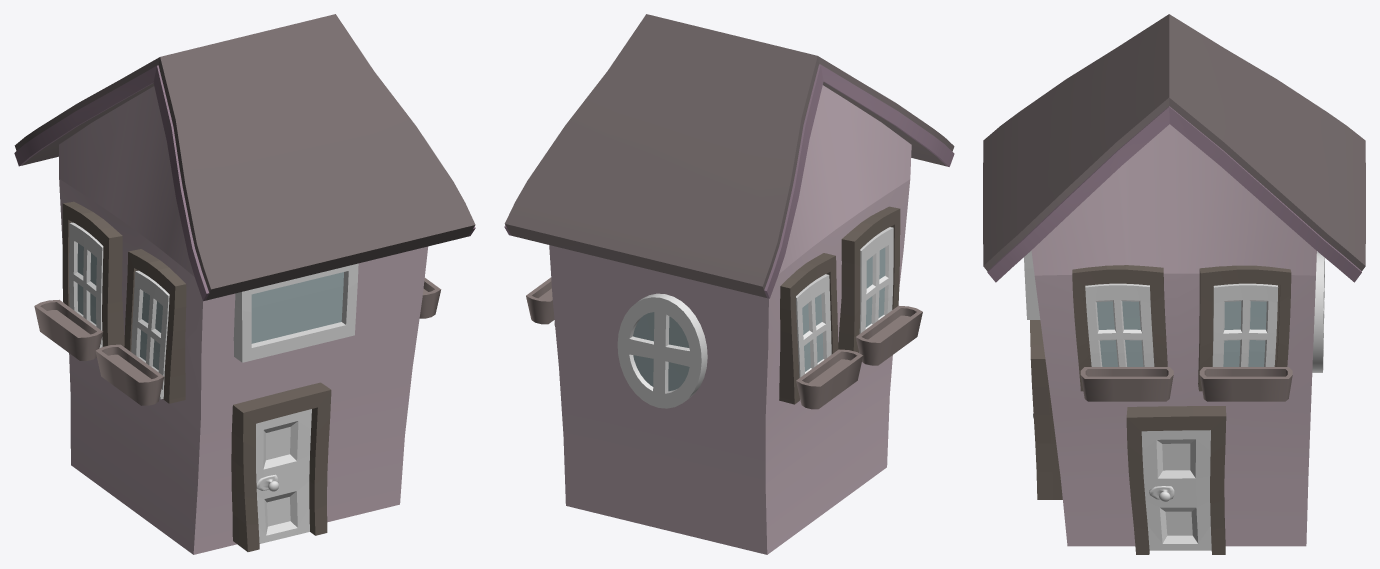
The model's file is House 2.fbx.
3 renders of one model, left to right at view 1: azimuth 30°, elevation 25°; view 2: azimuth 150°, elevation 25°; view 3: azimuth 270°, elevation 25°, orthographic. The views are drawn at different scales.
Visible parts, largest first — view 1: House 1.001, Door 2.002, Window 3.002, Window 5.004, Window 5.001, Plants 4.005, Plants 4.004, Plants 4.002; view 2: House 1.001, Window Round.001, Window 5.004, Window 5.001, Plants 4.004, Plants 4.005, Plants 4.003; view 3: House 1.001, Door 2.001, Window 5.003, Window 5.002, Door 2.002, Plants 4.002, Plants 4.003, Window Round.001, Window 3.002.
Part boxes in pixels (left/top/right/bottom): House 1.001: left=14, top=14, right=475, bottom=554; Door 2.002: left=231, top=382, right=331, bottom=551; Window 3.002: left=233, top=263, right=358, bottom=362; Window 5.004: left=124, top=249, right=186, bottom=403; Window 5.001: left=62, top=201, right=124, bottom=348; Plants 4.005: left=95, top=344, right=164, bottom=405; Plants 4.004: left=34, top=299, right=102, bottom=360; Plants 4.002: left=419, top=277, right=441, bottom=318; House 1.001: left=504, top=14, right=954, bottom=554; Window Round.001: left=617, top=293, right=707, bottom=408; Window 5.004: left=838, top=206, right=900, bottom=352; Window 5.001: left=779, top=253, right=838, bottom=404; Plants 4.004: left=796, top=349, right=863, bottom=409; Plants 4.005: left=855, top=305, right=922, bottom=365; Plants 4.003: left=526, top=277, right=554, bottom=324; House 1.001: left=983, top=14, right=1365, bottom=546; Door 2.001: left=1126, top=406, right=1226, bottom=554; Window 5.003: left=1198, top=265, right=1291, bottom=391; Window 5.002: left=1072, top=265, right=1167, bottom=391; Door 2.002: left=1030, top=320, right=1062, bottom=499; Plants 4.002: left=1080, top=367, right=1173, bottom=401; Plants 4.003: left=1199, top=367, right=1292, bottom=401; Window Round.001: left=1312, top=252, right=1324, bottom=372; Window 3.002: left=1024, top=250, right=1040, bottom=319.
Size of the model in its own units: 247 by 356 by 279.
